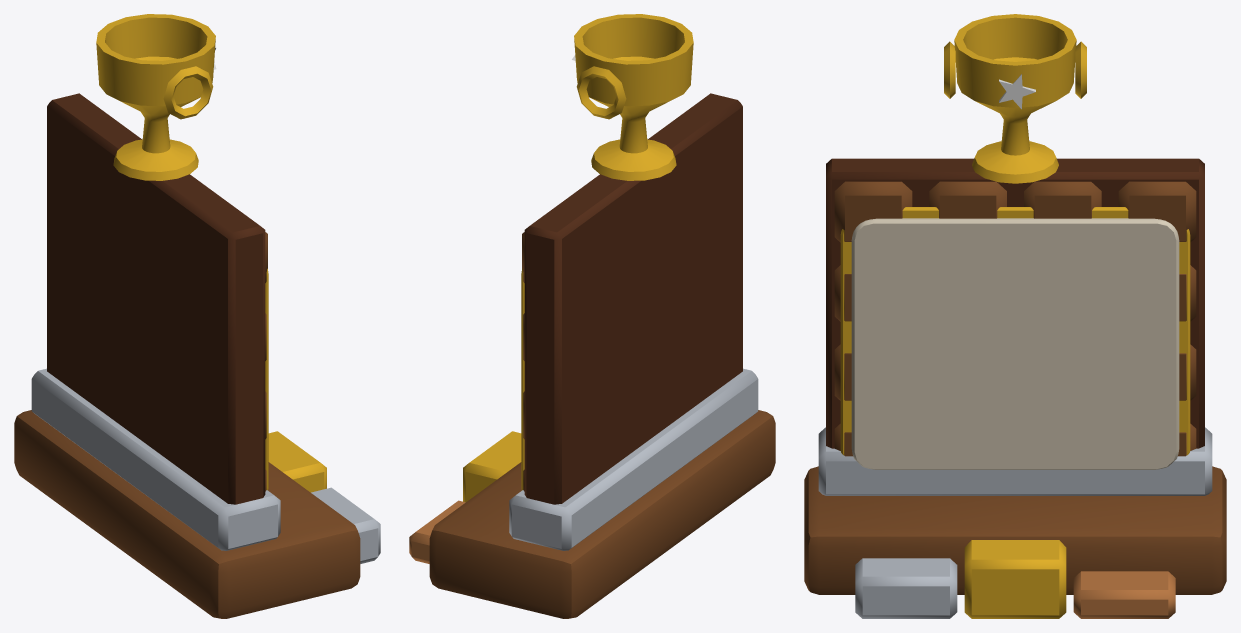
File: stand_top.glb
The picture shows the model from 3 angles, left to right: view 1: azimuth 30°, elevation 25°; view 2: azimuth 150°, elevation 25°; view 3: azimuth 270°, elevation 25°; orthographic projection.
Parts seen in each view (by area): view 1: stand_top; view 2: stand_top; view 3: stand_top.
Part boxes in pixels (x1,y1,x2,y2): stand_top: (14, 14, 380, 618); stand_top: (409, 14, 775, 618); stand_top: (804, 14, 1226, 618).
Bounding box in the file's own units: 1.62 × 3.85 × 2.9.
